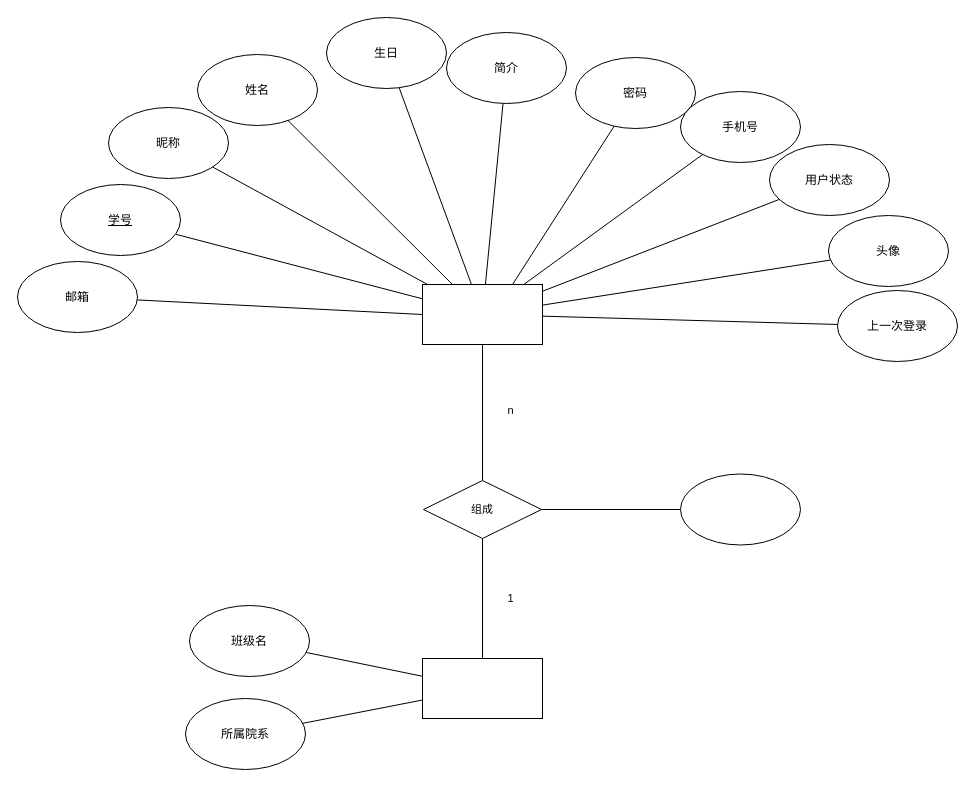
Image size: 975x787. Some labels were removed from this diagram. Each missing label, with the centre of its shape:
"学生" belongs at (x=482, y=314).
"班级" belongs at (x=482, y=688).
"班级代号" belongs at (x=740, y=509).
